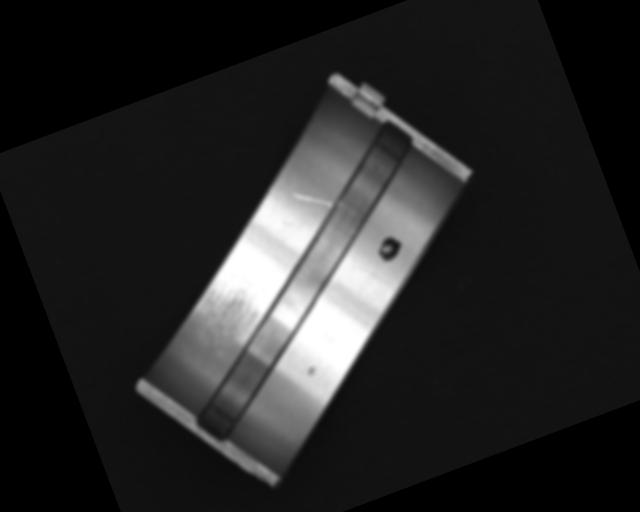blot: (372, 231, 406, 265)
bruise: (304, 363, 318, 377)
gap: (120, 114, 487, 444)
nick: (291, 182, 333, 220), (357, 257, 390, 294)
scratch: (174, 254, 276, 353)
